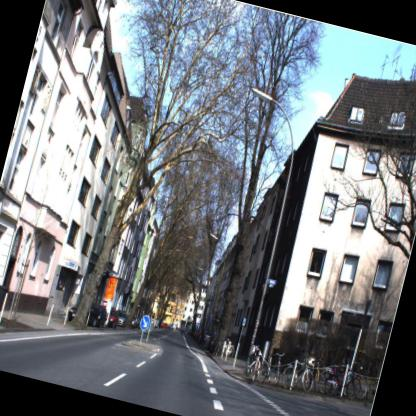mandatory: (138, 315, 152, 333)
